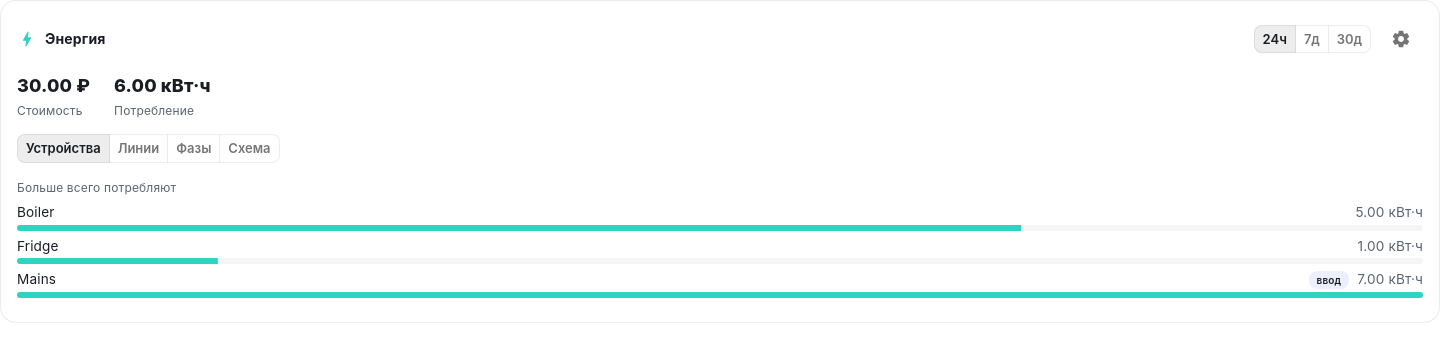
EnergyTile › switches to the per-circuit view and reports the unaccounted remainder
The width and height of the screenshot is (1440, 340).
What coordinates should you click on to do the following:
click the button "Линии"
I would click on:
 (138, 149)
Its box is [109,134,168,163].
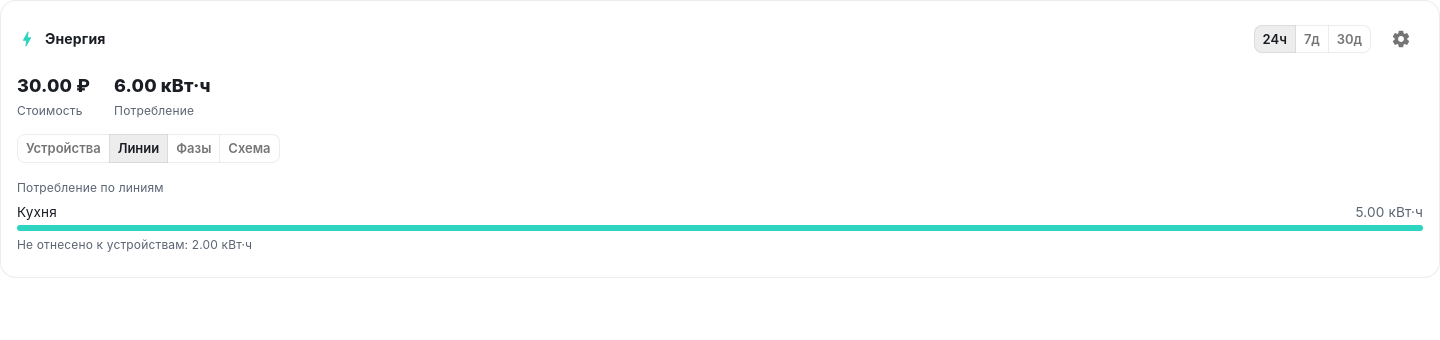
Now the text "Кухня" is shown, box [17,204,57,220]
Now the text "Не отнесено к устройствам: 2.00 кВт·ч" is shown, box [17,237,252,252]
